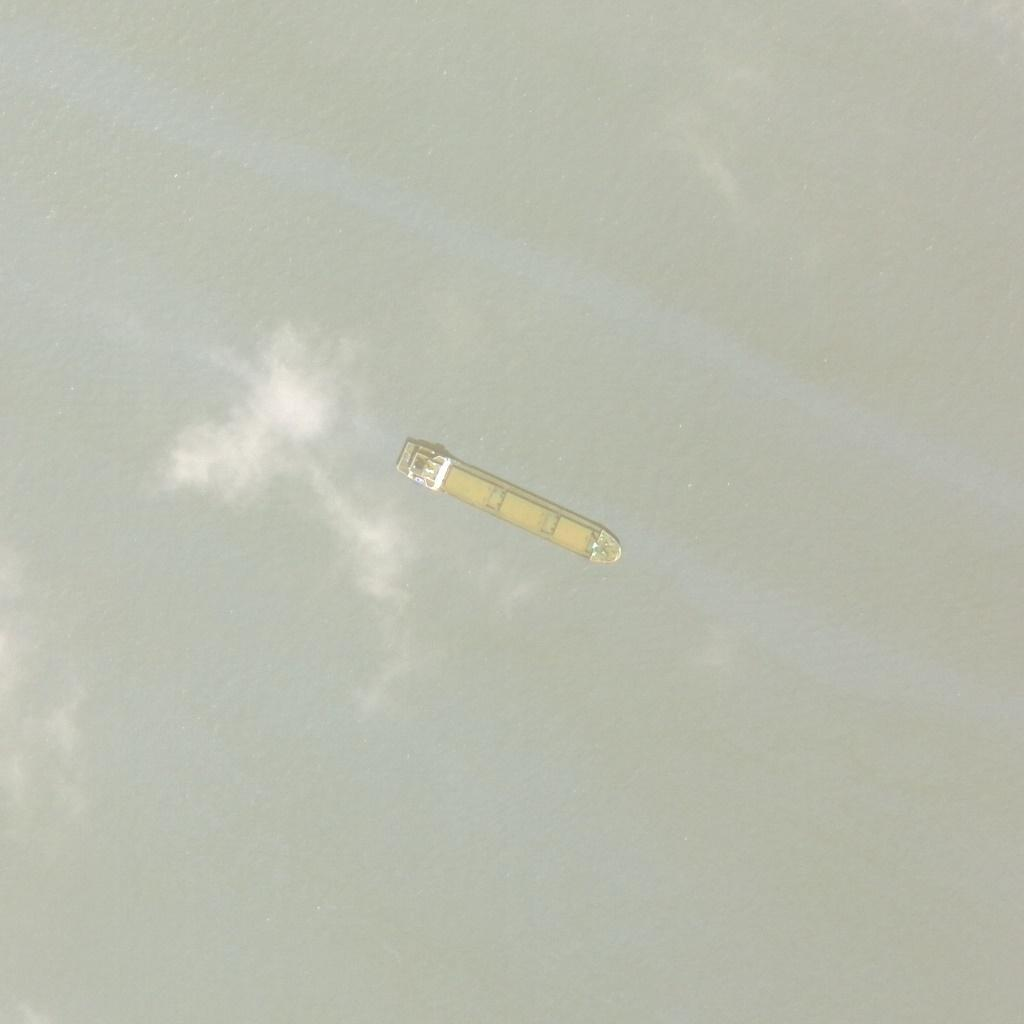ship: (392, 436, 634, 566)
